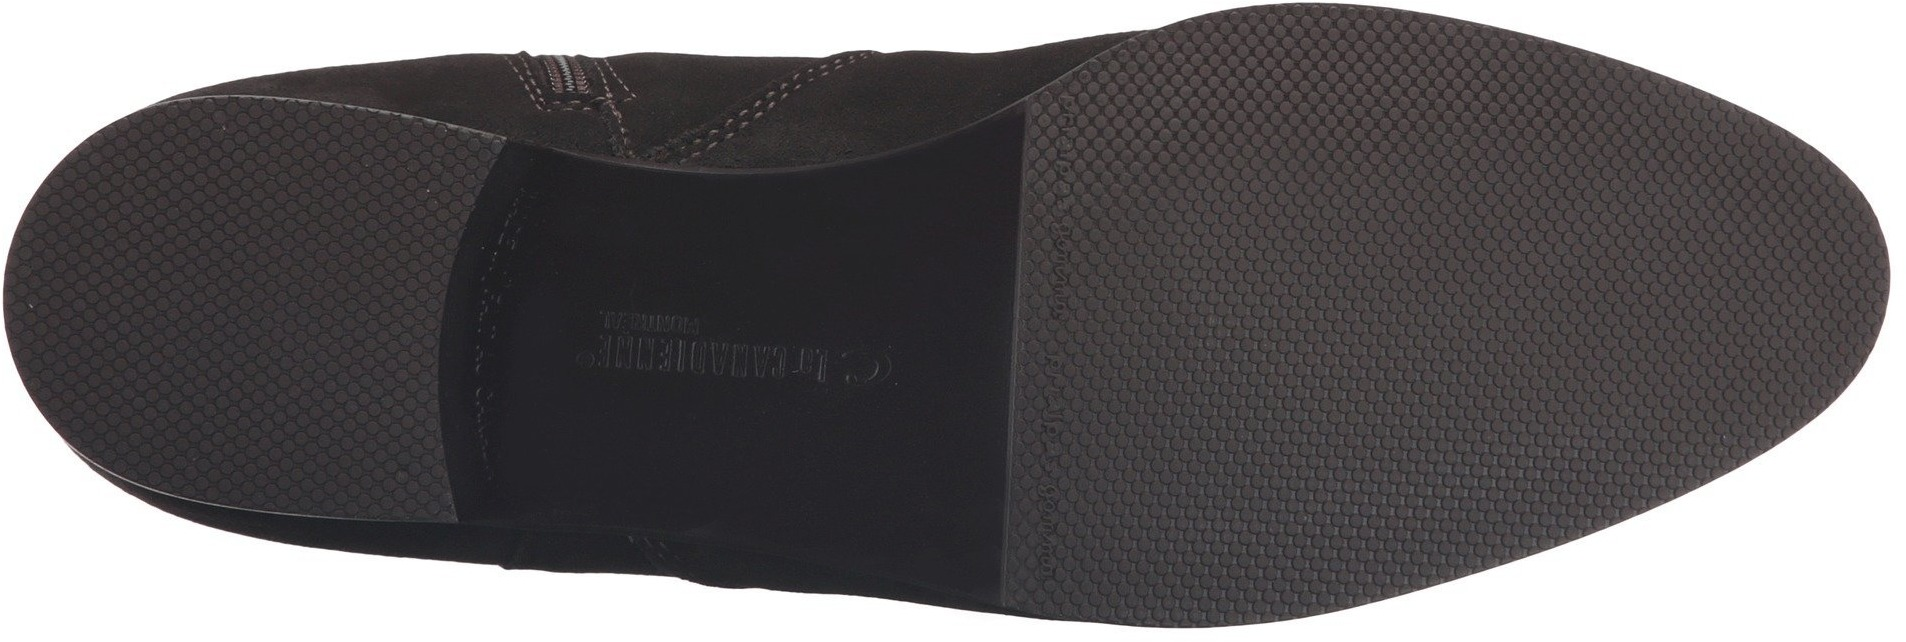circle: (1024, 473, 1090, 541), (1041, 223, 1098, 302), (1043, 84, 1096, 167), (1034, 350, 1098, 419)
other: (105, 154, 421, 467), (1054, 92, 1350, 340), (1359, 74, 1625, 338), (1051, 348, 1323, 582), (1335, 348, 1547, 550), (1626, 180, 1829, 374)
text: (1024, 473, 1090, 541), (1041, 223, 1098, 302), (1043, 84, 1096, 167), (1034, 350, 1098, 419)
